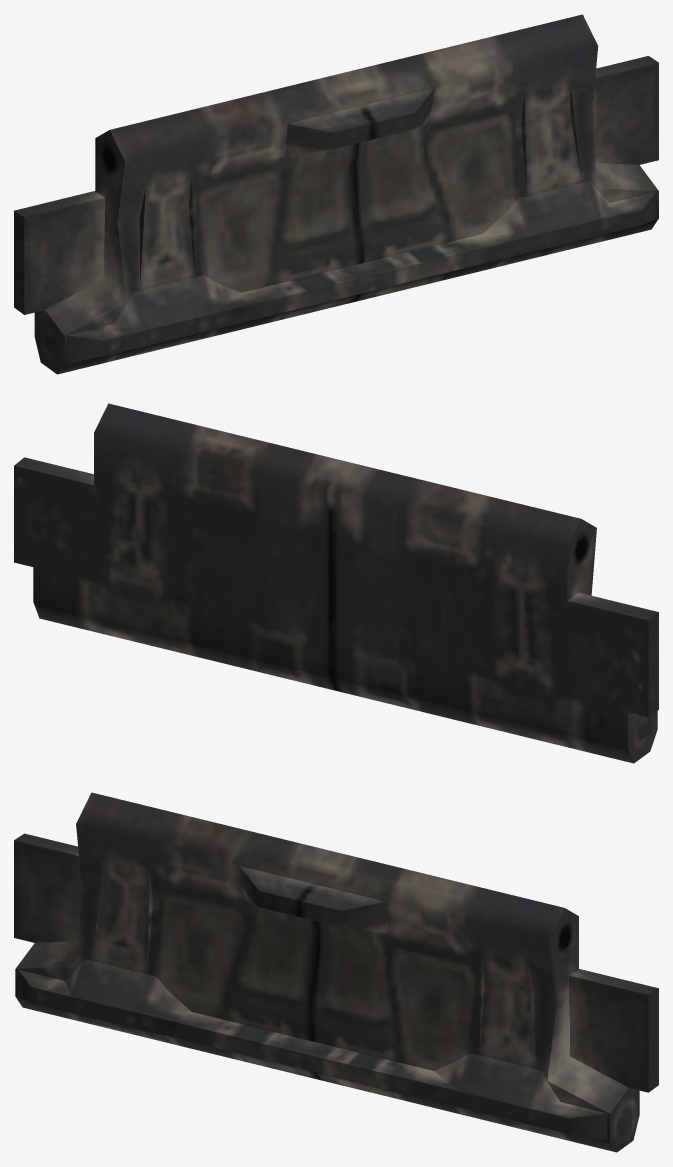
3 renders of one model, top to bottom at view 1: azimuth 30°, elevation 25°; view 2: azimuth 150°, elevation 25°; view 3: azimuth 330°, elevation 25°, orthographic.
Parts seen in each view (by area): view 1: set_0_group_0; view 2: set_0_group_0; view 3: set_0_group_0.
Boxes of the visible parts, x1=… form: set_0_group_0: x1=14, y1=14, x2=658, y2=374; set_0_group_0: x1=14, y1=403, x2=658, y2=763; set_0_group_0: x1=14, y1=792, x2=658, y2=1152.
Bounding box in the file's own units: 0.6491 × 0.2188 × 0.0743.
Materials: 1 (1 with a texture image).
